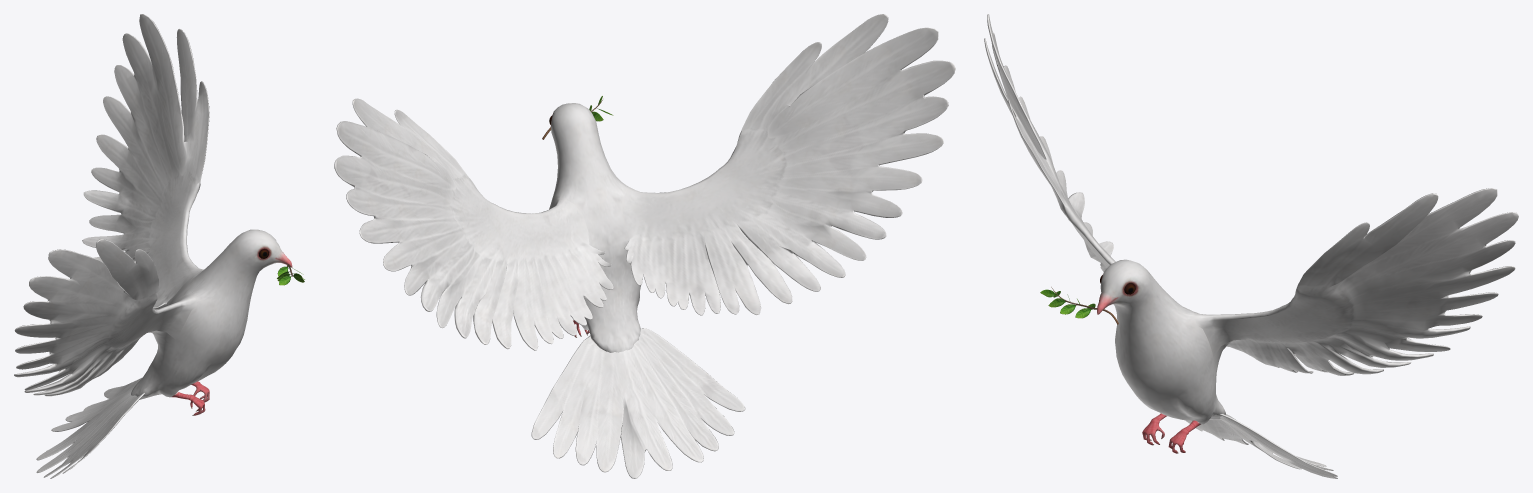
3 renders of one model, left to right at view 1: azimuth 30°, elevation 25°; view 2: azimuth 150°, elevation 25°; view 3: azimuth 270°, elevation 25°, orthographic. The views are drawn at different scales.
Parts seen in each view (by area): view 1: node_id37_1; view 2: node_id37_1; view 3: node_id37_1.
Part boxes in pixels (left/top/right/bottom): node_id37_1: left=14, top=14, right=304, bottom=478; node_id37_1: left=334, top=14, right=955, bottom=478; node_id37_1: left=984, top=14, right=1518, bottom=478.
Bounding box in the file's own units: 20.82 × 19.15 × 24.29.
Materials: 1 (1 with a texture image).
